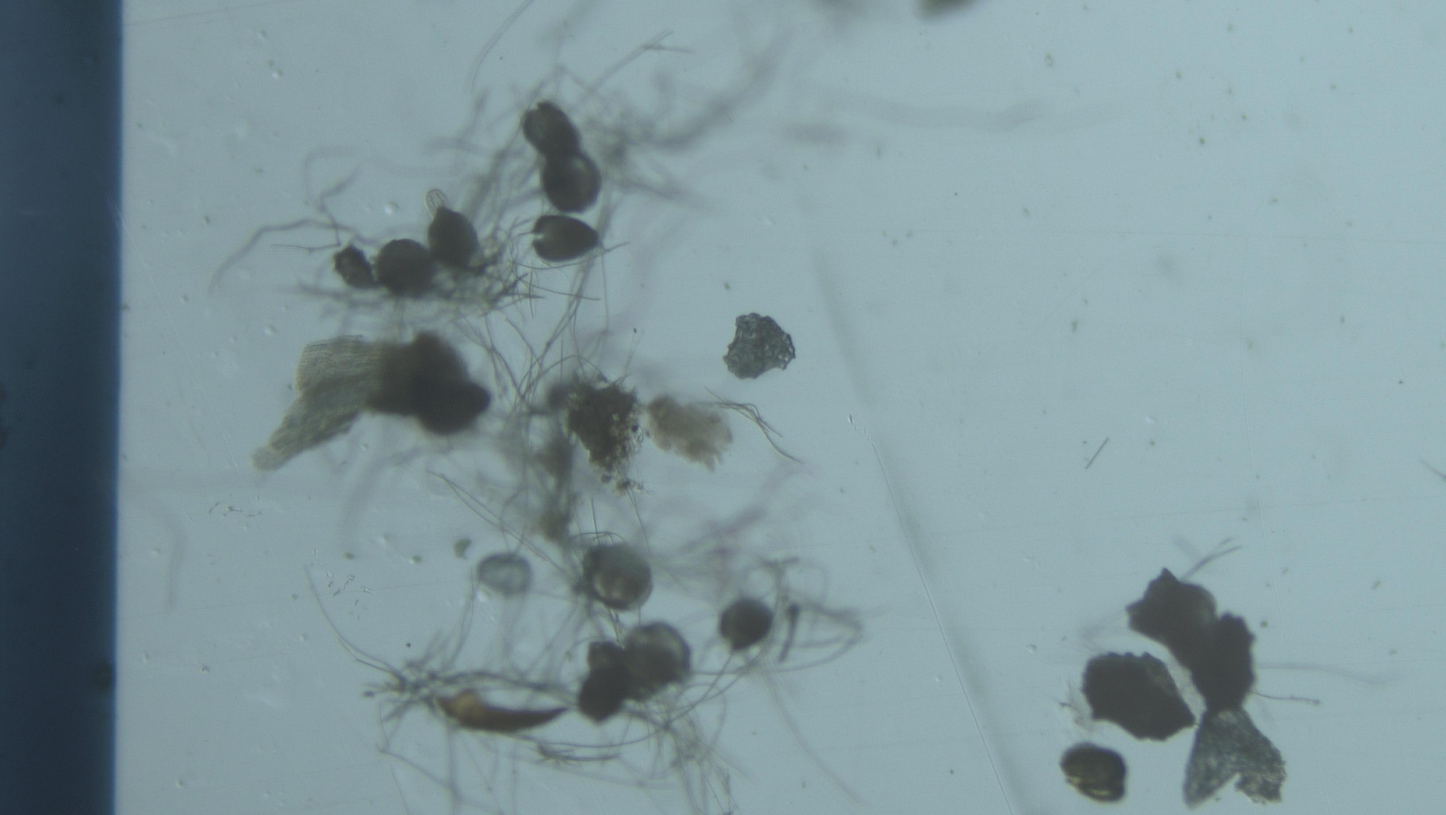dead: (476, 553, 532, 598)
live: (622, 622, 691, 700), (581, 543, 653, 611), (1060, 743, 1127, 803), (542, 153, 602, 213), (522, 101, 581, 161), (375, 240, 436, 296), (532, 214, 600, 264), (428, 207, 479, 269), (718, 596, 774, 652)
